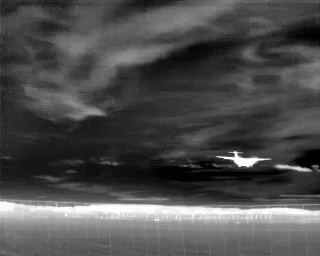AIRPLANE: (214, 148, 274, 172)
